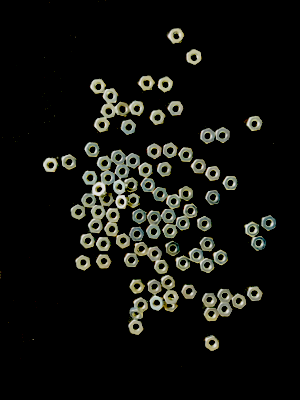nut: (168, 28, 185, 45), (187, 49, 203, 66), (200, 128, 216, 145), (247, 116, 264, 132), (247, 286, 264, 302), (158, 77, 174, 93), (103, 88, 119, 104), (121, 120, 137, 136), (150, 110, 166, 126), (163, 143, 179, 159), (157, 162, 173, 178), (116, 233, 132, 249), (189, 248, 205, 264), (261, 216, 277, 232), (251, 236, 267, 252), (129, 320, 145, 336), (94, 118, 111, 133), (85, 143, 102, 158), (62, 154, 77, 171), (43, 158, 60, 173), (191, 159, 208, 174), (147, 143, 162, 160), (113, 179, 128, 196), (183, 204, 200, 219), (80, 234, 97, 249), (200, 237, 217, 252), (205, 335, 220, 352), (138, 76, 156, 90), (91, 79, 107, 94), (115, 102, 131, 117), (130, 101, 146, 116), (216, 128, 231, 144), (223, 176, 239, 191), (206, 167, 222, 182), (179, 148, 195, 163), (126, 153, 141, 169), (111, 150, 127, 165), (97, 156, 113, 171), (206, 191, 222, 206), (115, 164, 131, 179), (83, 171, 99, 186), (179, 186, 194, 202), (167, 194, 182, 210), (141, 178, 157, 193), (153, 187, 169, 202), (71, 205, 87, 220), (91, 205, 107, 220), (147, 210, 163, 225), (161, 209, 177, 224), (198, 216, 213, 232), (88, 219, 104, 234), (163, 224, 179, 239), (147, 225, 163, 240), (96, 237, 112, 252), (76, 256, 92, 271), (148, 247, 164, 262), (166, 241, 181, 257), (245, 222, 260, 238), (200, 258, 215, 274), (176, 255, 191, 271), (130, 279, 146, 294), (150, 295, 165, 311), (202, 293, 218, 308), (232, 294, 247, 310), (168, 102, 185, 116), (81, 194, 98, 208), (96, 255, 113, 269), (181, 285, 198, 299), (101, 104, 116, 119), (101, 171, 116, 186), (93, 182, 108, 197), (176, 216, 191, 231), (130, 227, 145, 242), (135, 242, 150, 257), (162, 275, 177, 290), (125, 177, 139, 193), (99, 193, 115, 207), (106, 209, 122, 223), (133, 209, 147, 225), (124, 254, 140, 268), (214, 250, 228, 266), (154, 260, 170, 274), (148, 279, 162, 295), (164, 297, 178, 313), (218, 289, 234, 303), (218, 303, 234, 317), (204, 308, 220, 322), (139, 163, 153, 178), (116, 195, 130, 210), (105, 223, 120, 237), (134, 297, 148, 312), (128, 193, 141, 209), (164, 291, 180, 304), (130, 308, 144, 320)
